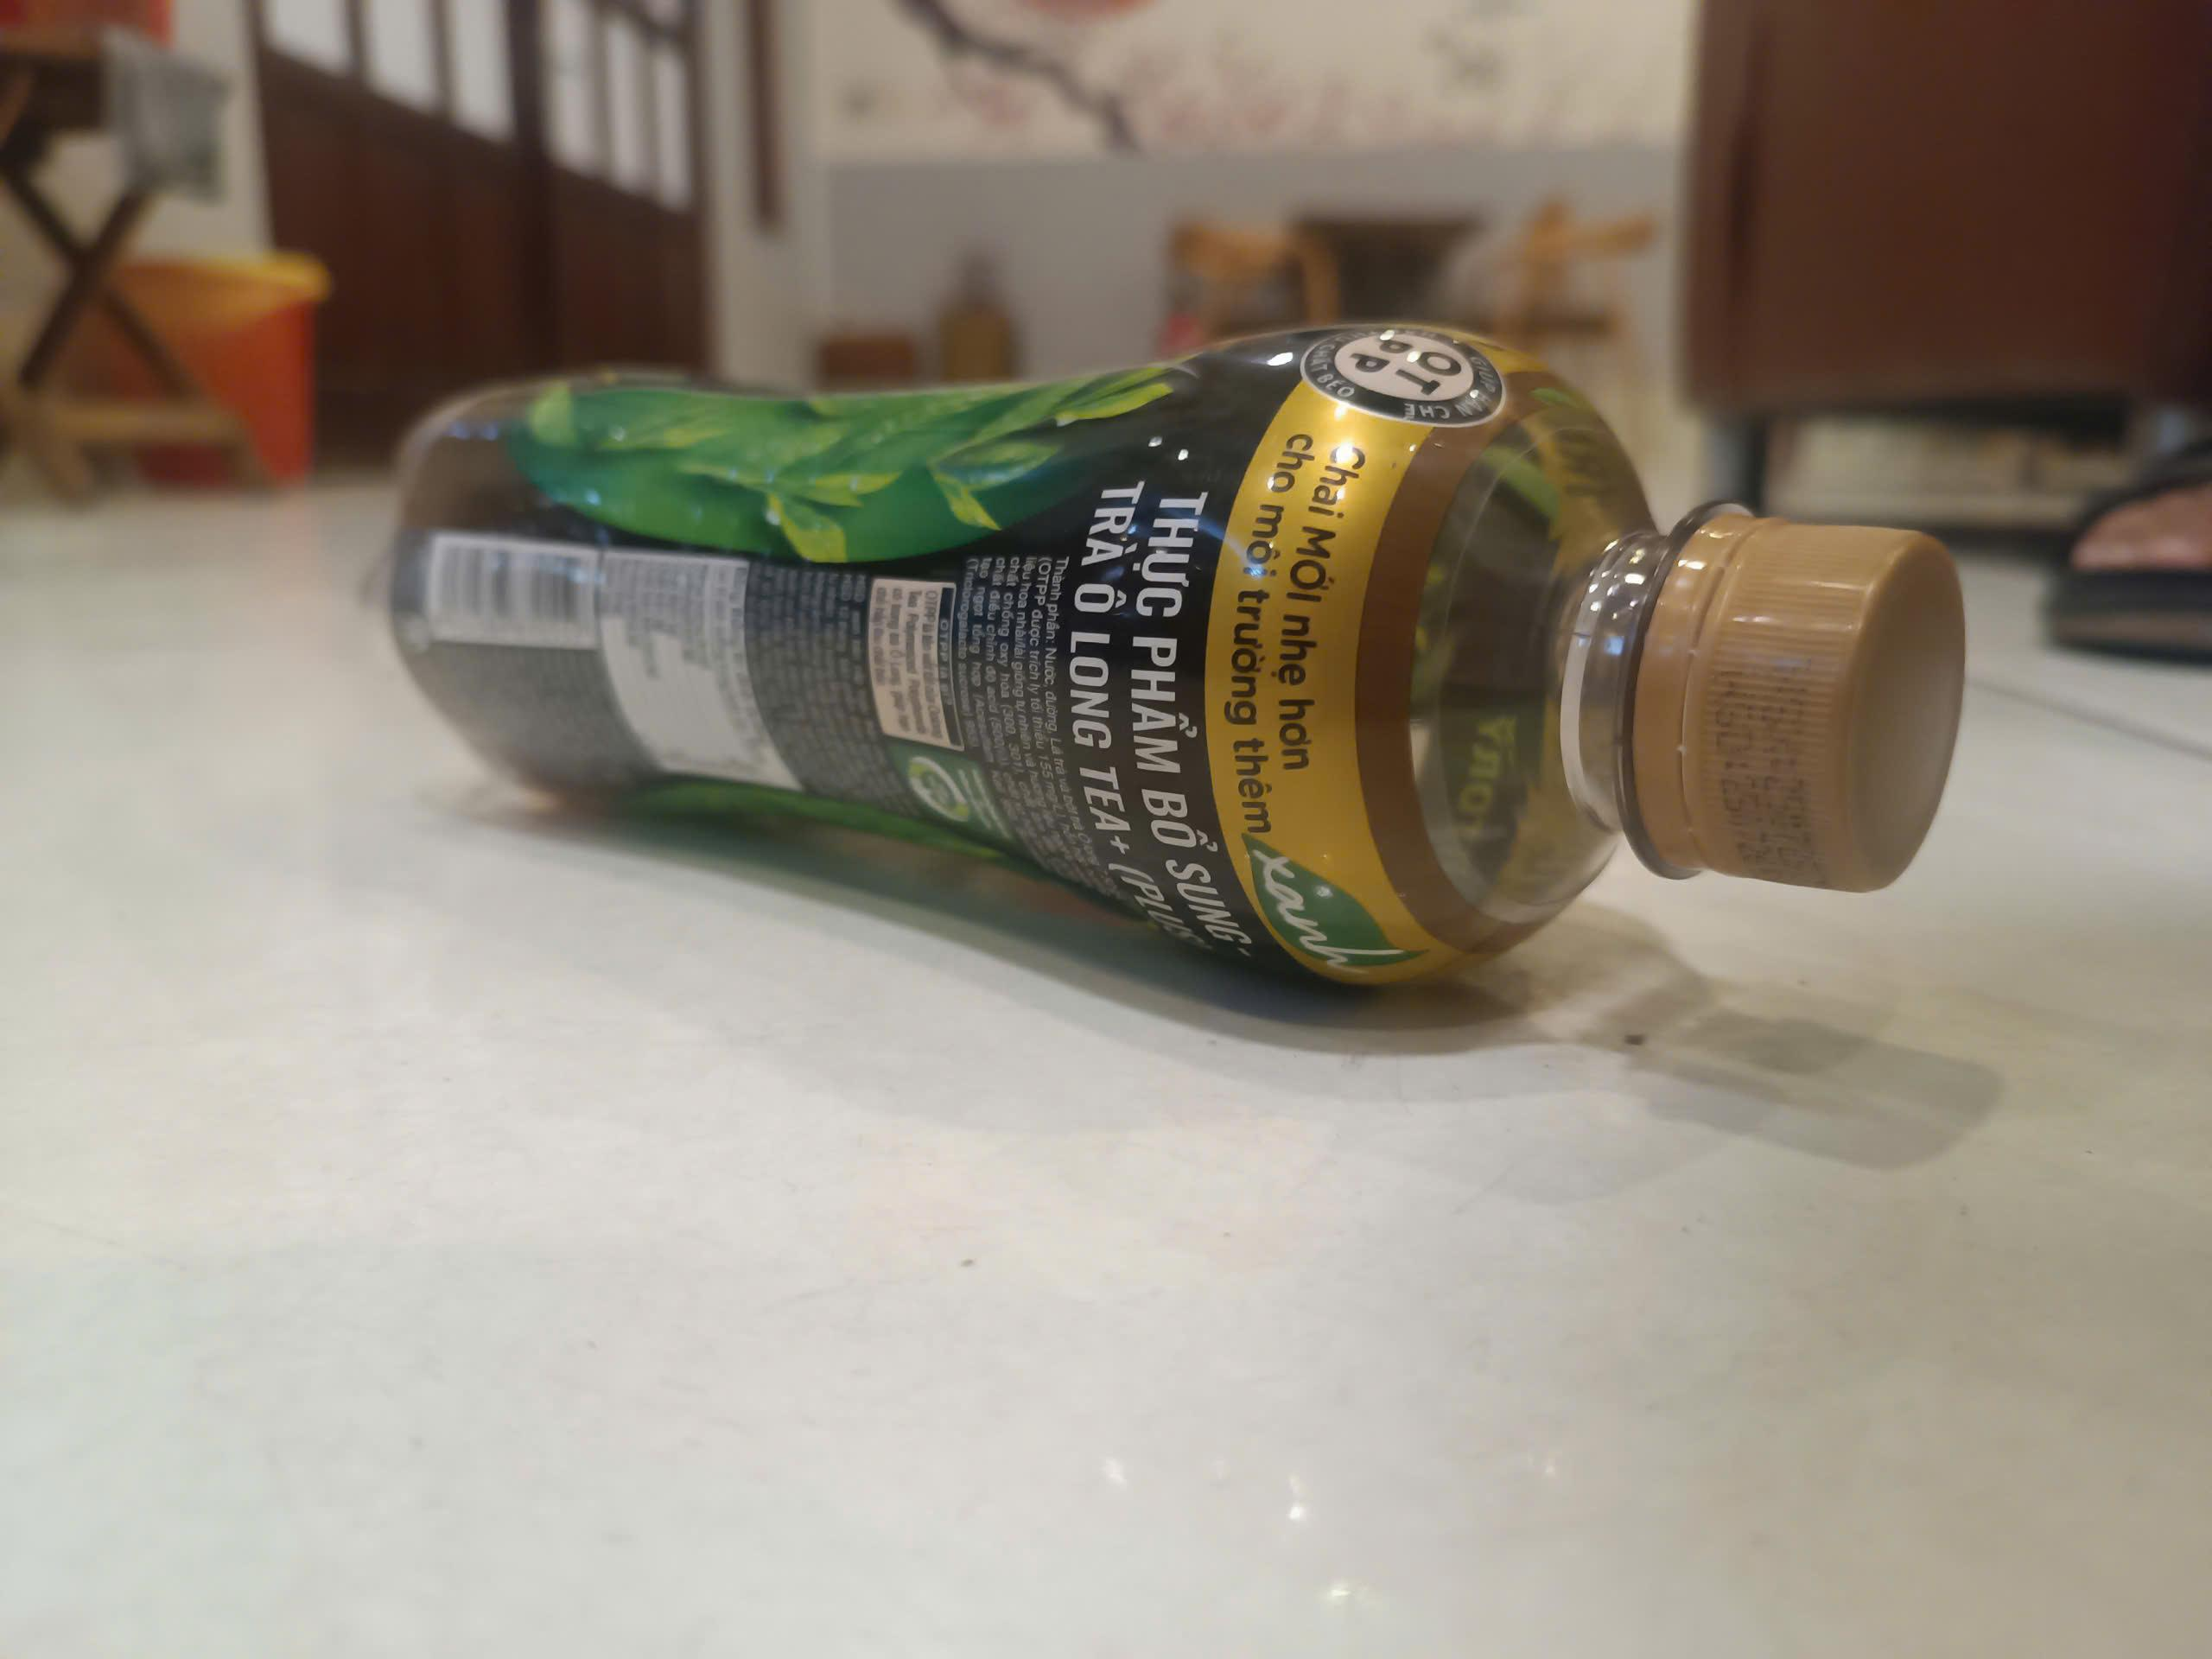Vo co: (378, 329, 1963, 996)
